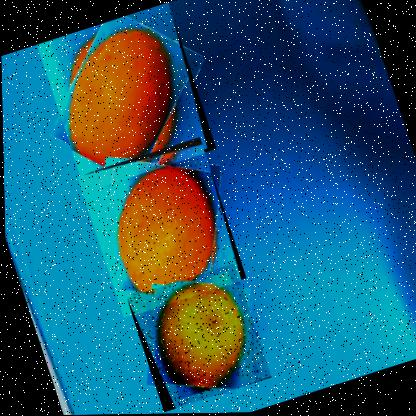orange: (36, 1, 218, 191), (75, 136, 246, 318), (124, 261, 271, 412)
